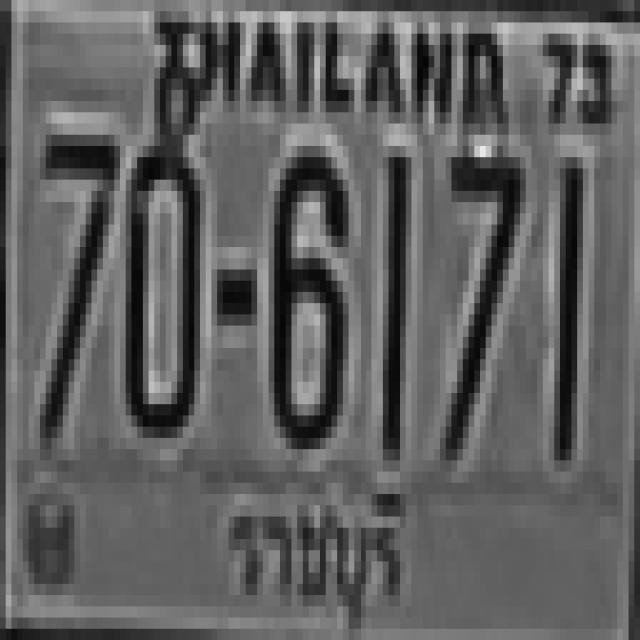0: (123, 134, 197, 426)
1: (549, 152, 577, 454), (380, 146, 403, 449)
6: (268, 135, 343, 438)
7: (440, 146, 520, 449), (40, 123, 114, 438)
Ratchaburi: (214, 480, 422, 640)
